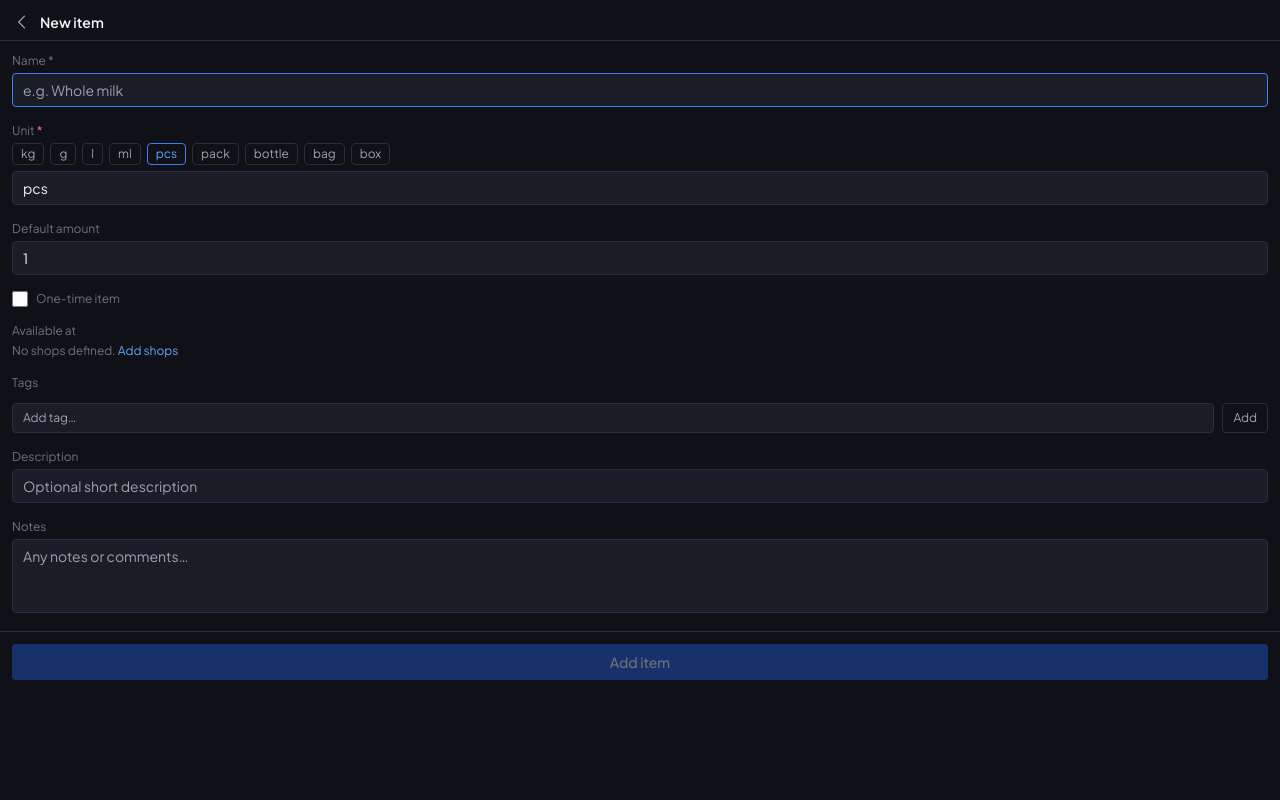
Test: ItemDetailScreen — tag filtering › pressing Enter adds a new tag and clears the input
This screenshot has width=1280, height=800.
Type "spicy" into the field with placeholder "Add tag…".
click(613, 418); type("spicy")  # box left=12, top=403, right=1214, bottom=433
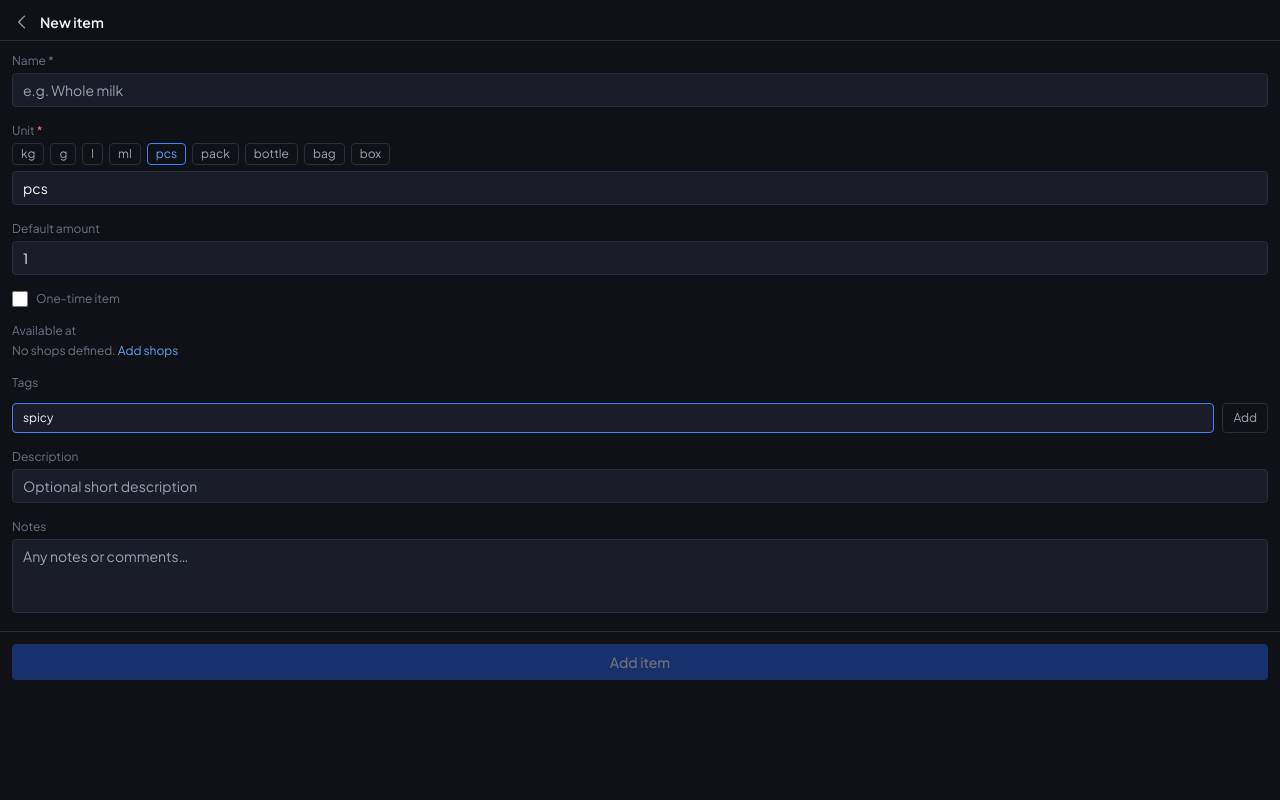
Press Enter
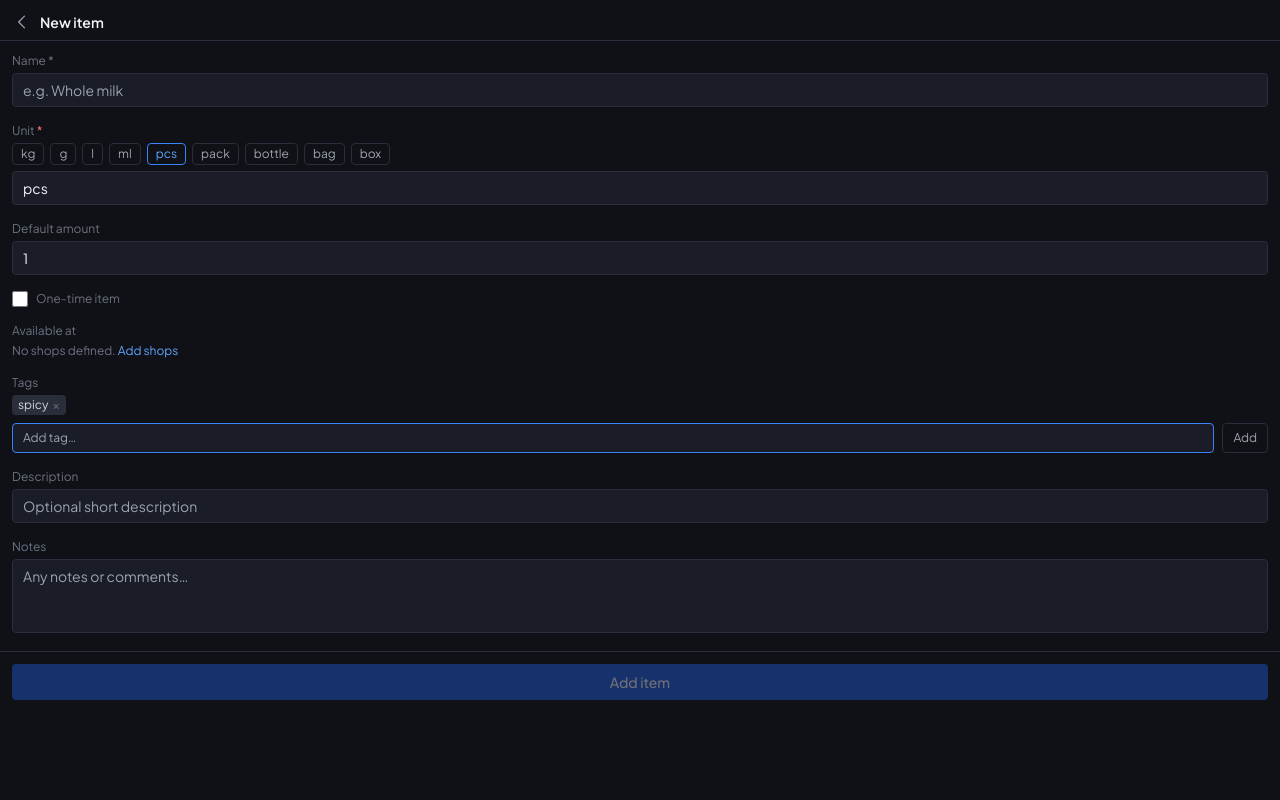
Expected: the text "spicy" is shown, left=18, top=397, right=48, bottom=412
Expected: the field with placeholder "Add tag…" is empty, left=12, top=423, right=1214, bottom=453
